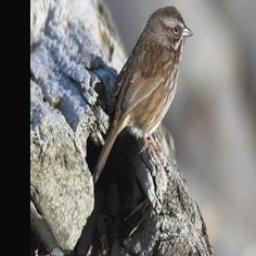Sparrow: (93, 4, 194, 185)
